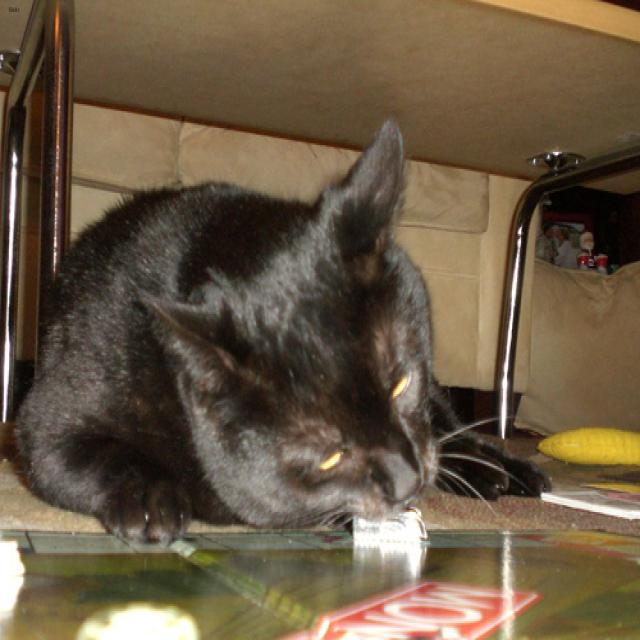Bombay: (132, 116, 454, 529)
